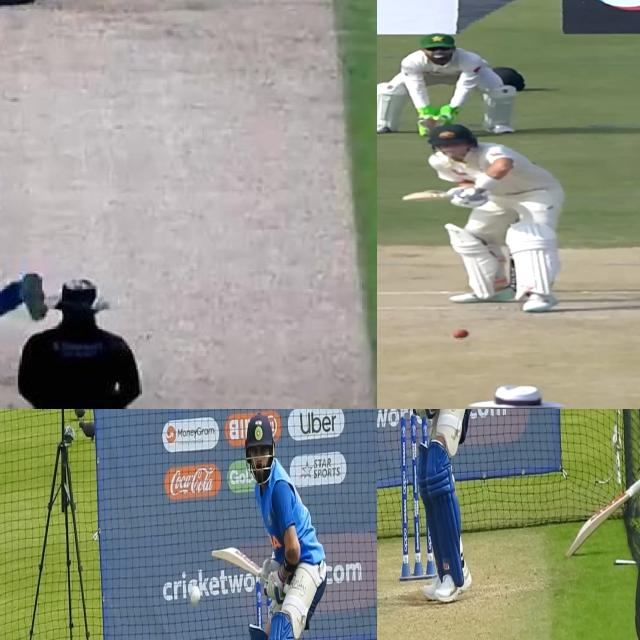Cricket ball: (190, 584, 202, 608), (451, 329, 471, 340)
Stumps: (398, 413, 431, 580)
